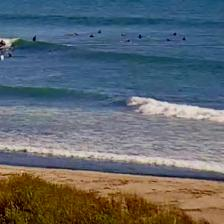surfer: (0, 39, 6, 47), (124, 38, 131, 44), (137, 33, 143, 39), (89, 34, 95, 39), (97, 29, 102, 34), (32, 35, 36, 41), (172, 32, 178, 36), (165, 38, 172, 41), (8, 53, 12, 58), (73, 32, 78, 36), (120, 33, 125, 37), (182, 36, 187, 40), (1, 55, 2, 62)
